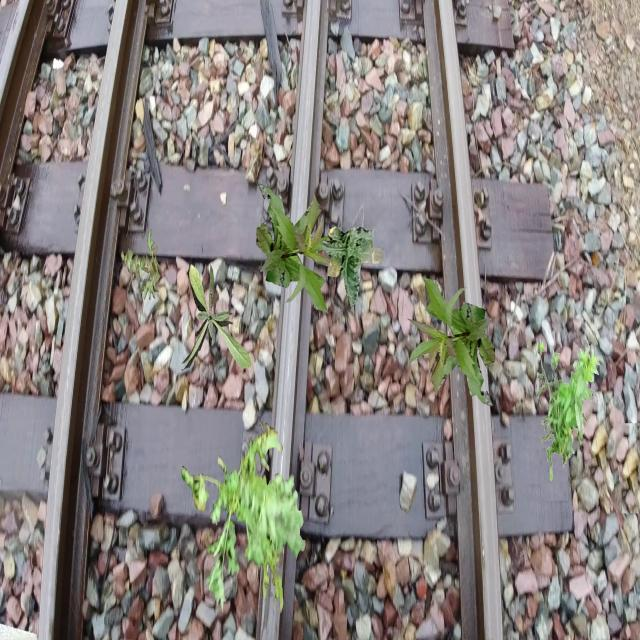Plant: (181, 420, 306, 616), (407, 277, 496, 407), (256, 184, 344, 314), (536, 338, 600, 482), (180, 263, 252, 371), (321, 227, 384, 310), (120, 229, 162, 300)
